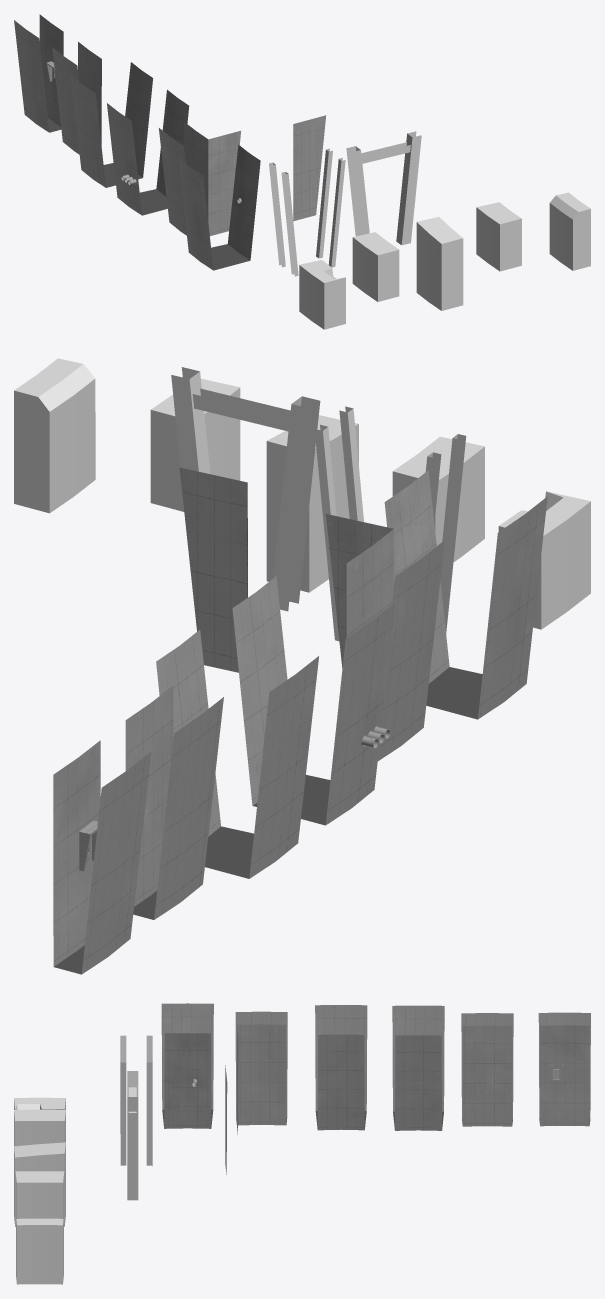
The model's file is TLRNatuurGebied.fbx.
The picture shows the model from 3 angles, top to bottom: view 1: azimuth 30°, elevation 25°; view 2: azimuth 150°, elevation 25°; view 3: azimuth 270°, elevation 25°; orthographic projection. The views are drawn at different scales.
Parts seen in each view (by area): view 1: GebiedStartEndVersmalling, GebeidRioolLBuizen, GebeidNormaal, GebeidRioolRBuizen, GebiedDeurVersmalling, GebiedLPadVerschuining, GebiedGrootSteunPalen, GebiedKleinSteunPalen, GebiedLPadAddon, GebiedRPadNormaal, GebiedStartEnd, GebiedVersmalling (+2 smaller); view 2: GebiedDeurVersmalling, GebeidRioolRBuizen, GebeidRioolLBuizen, GebiedVersmalling, GebiedStartEndVersmalling, GebeidNormaal, GebiedLPadAddon, GebiedGrootSteunPalen, GebiedStartEnd, GebiedKleinSteunPalen, GebiedRRioolPipesAfvoer, GebiedLPadVerschuining (+2 smaller); view 3: GebeidNormaal, GebeidRioolLBuizen, GebeidRioolRBuizen, GebiedVersmalling, GebiedStartEndVersmalling, GebiedDeurVersmalling, GebiedLPadAddon, GebiedLPadNormaal, GebiedKleinSteunPalen, GebiedRPadNormaal, GebiedLPadVerschuining, GebiedGrootSteunPalen (+1 smaller).
Part boxes in pixels (bbox=[...]): GebiedStartEndVersmalling: bbox=[159, 122, 240, 235]; GebeidRioolLBuizen: bbox=[178, 144, 260, 270]; GebeidNormaal: bbox=[70, 62, 153, 187]; GebeidRioolRBuizen: bbox=[107, 89, 189, 215]; GebiedDeurVersmalling: bbox=[14, 14, 63, 132]; GebiedLPadVerschuining: bbox=[416, 217, 463, 310]; GebiedGrootSteunPalen: bbox=[346, 131, 421, 245]; GebiedKleinSteunPalen: bbox=[269, 148, 345, 276]; GebiedLPadAddon: bbox=[549, 192, 590, 270]; GebiedRPadNormaal: bbox=[352, 232, 399, 301]; GebiedStartEnd: bbox=[293, 115, 326, 221]; GebiedVersmalling: bbox=[52, 42, 101, 154]; GebiedDeurVersmalling: bbox=[53, 740, 151, 974]; GebeidRioolRBuizen: bbox=[232, 576, 395, 825]; GebeidRioolLBuizen: bbox=[384, 470, 547, 719]; GebiedVersmalling: bbox=[125, 686, 223, 919]; GebiedStartEndVersmalling: bbox=[326, 514, 444, 761]; GebeidNormaal: bbox=[156, 630, 318, 878]; GebiedLPadAddon: bbox=[14, 358, 95, 513]; GebiedGrootSteunPalen: bbox=[171, 367, 320, 611]; GebiedStartEnd: bbox=[179, 467, 247, 672]; GebiedKleinSteunPalen: bbox=[314, 406, 466, 641]; GebiedRRioolPipesAfvoer: bbox=[498, 491, 590, 629]; GebiedLPadVerschuining: bbox=[266, 415, 358, 592]; GebeidNormaal: bbox=[392, 1005, 444, 1130]; GebeidRioolLBuizen: bbox=[161, 1003, 213, 1128]; GebeidRioolRBuizen: bbox=[315, 1005, 367, 1130]; GebiedVersmalling: bbox=[461, 1013, 513, 1126]; GebiedStartEndVersmalling: bbox=[235, 1011, 287, 1134]; GebiedDeurVersmalling: bbox=[538, 1012, 590, 1126]; GebiedLPadAddon: bbox=[16, 1218, 63, 1284]; GebiedLPadNormaal: bbox=[15, 1171, 64, 1222]; GebiedKleinSteunPalen: bbox=[120, 1035, 152, 1166]; GebiedRPadNormaal: bbox=[14, 1109, 65, 1146]; GebiedLPadVerschuining: bbox=[14, 1142, 65, 1226]; GebiedGrootSteunPalen: bbox=[127, 1071, 138, 1200].
Size of the model in its own units: 6850 by 2620 by 10393.
